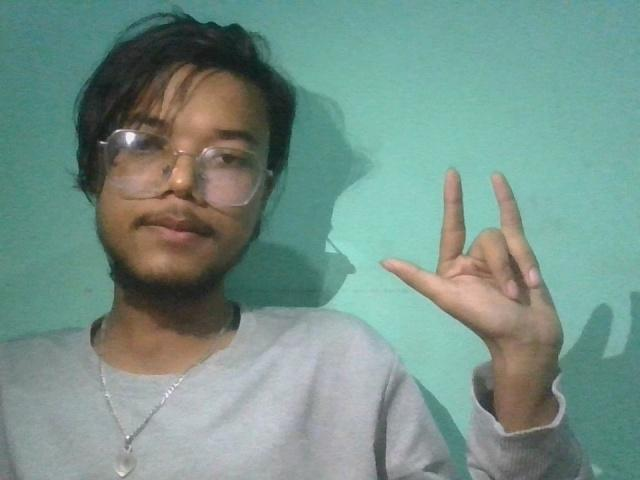I Love You: (377, 155, 611, 396)
